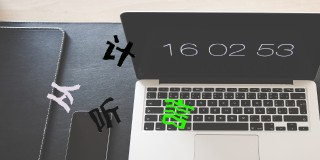从: (46, 80, 81, 113)
听: (88, 97, 124, 133)
言: (162, 97, 195, 131)
计: (101, 34, 137, 68)
